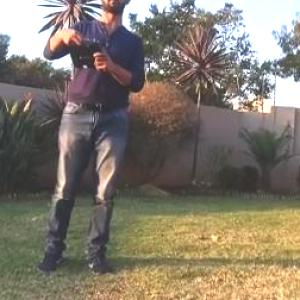follow: (26, 0, 148, 285)
